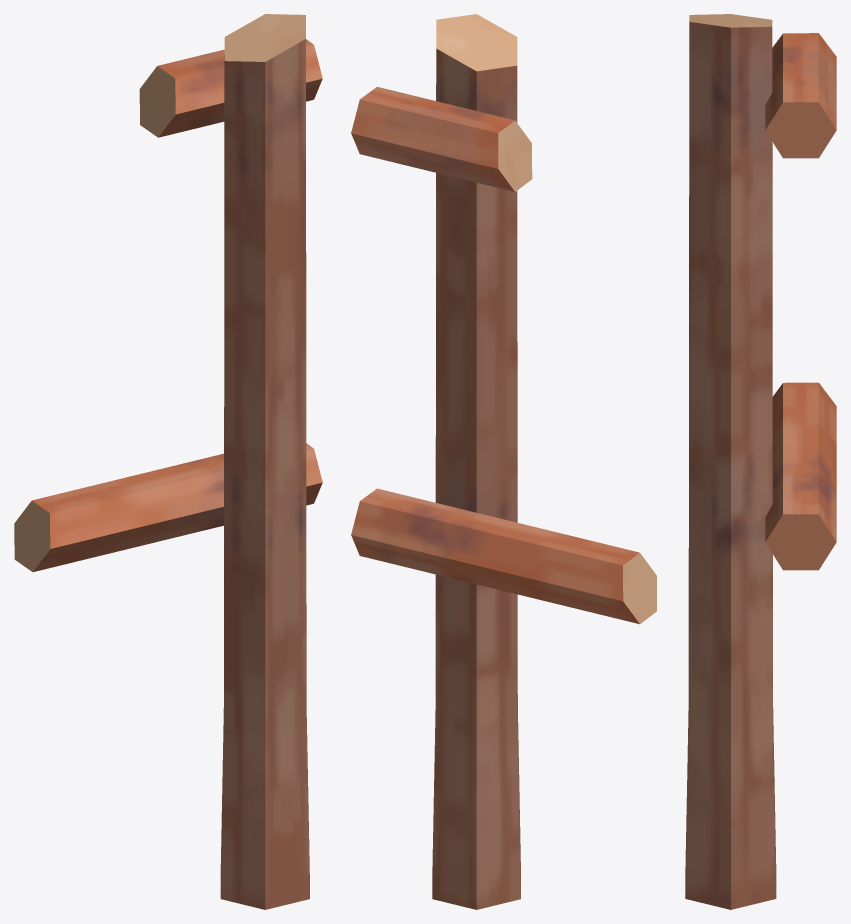
Rendered from ladder_s02.fbx.
3 renders of one model, left to right at view 1: azimuth 30°, elevation 25°; view 2: azimuth 150°, elevation 25°; view 3: azimuth 270°, elevation 25°, orthographic. The views are drawn at different scales.
Visible parts, largest first — view 1: ladder_s02; view 2: ladder_s02; view 3: ladder_s02.
Part boxes in pixels (x1,y1,x2,y2): ladder_s02: [14, 14, 322, 909]; ladder_s02: [351, 14, 656, 909]; ladder_s02: [685, 14, 836, 909].
Bounding box in the file's own units: 1.02 × 2.99 × 0.4663.
